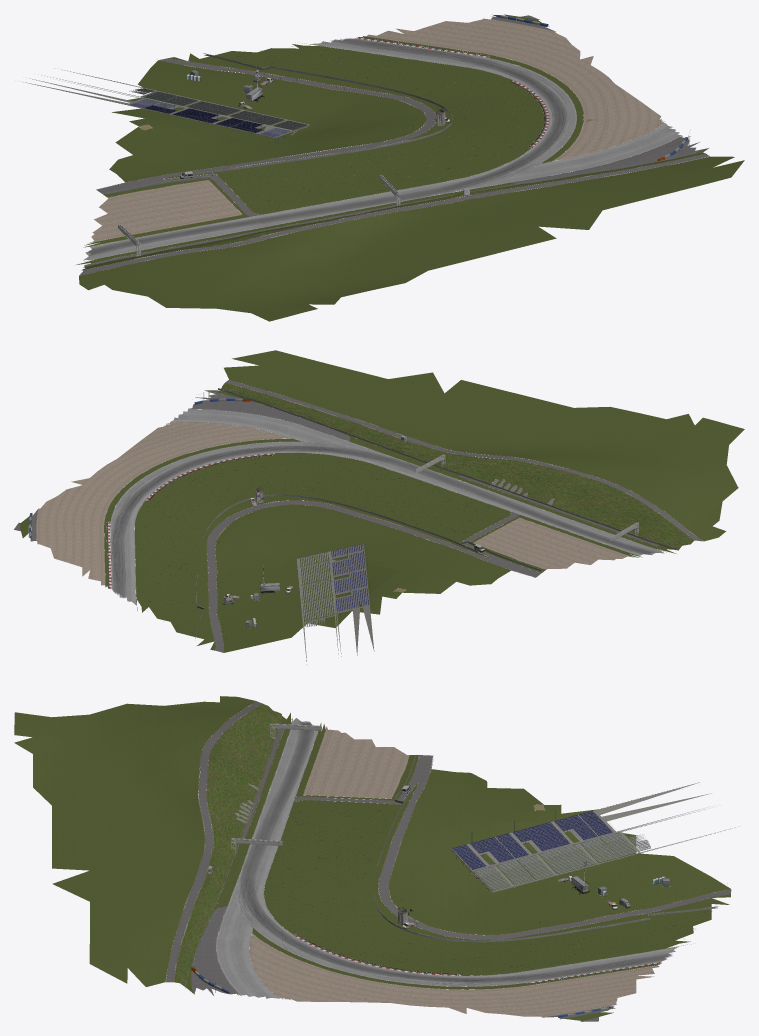
3 renders of one model, top to bottom at view 1: azimuth 30°, elevation 25°; view 2: azimuth 150°, elevation 25°; view 3: azimuth 270°, elevation 25°, orthographic. The views are drawn at different scales.
Visible parts, largest first — view 1: tile_t09; view 2: tile_t09; view 3: tile_t09.
Boxes of the visible parts, <box> form: tile_t09: <box>23,14,744,321</box>; tile_t09: <box>14,350,744,664</box>; tile_t09: <box>14,696,739,1021</box>.
Bounding box in the file's own units: 296 × 26.04 × 293.
Materials: 38 (38 with a texture image).
